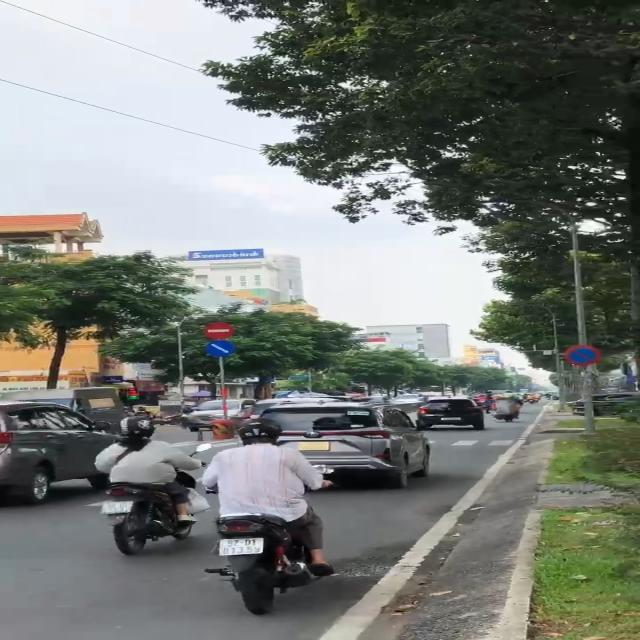Bien bao cam di nguoc chieu: (201, 321, 235, 340)
Bien bao huong phai di vong chuong ngai vat: (200, 340, 240, 361)
